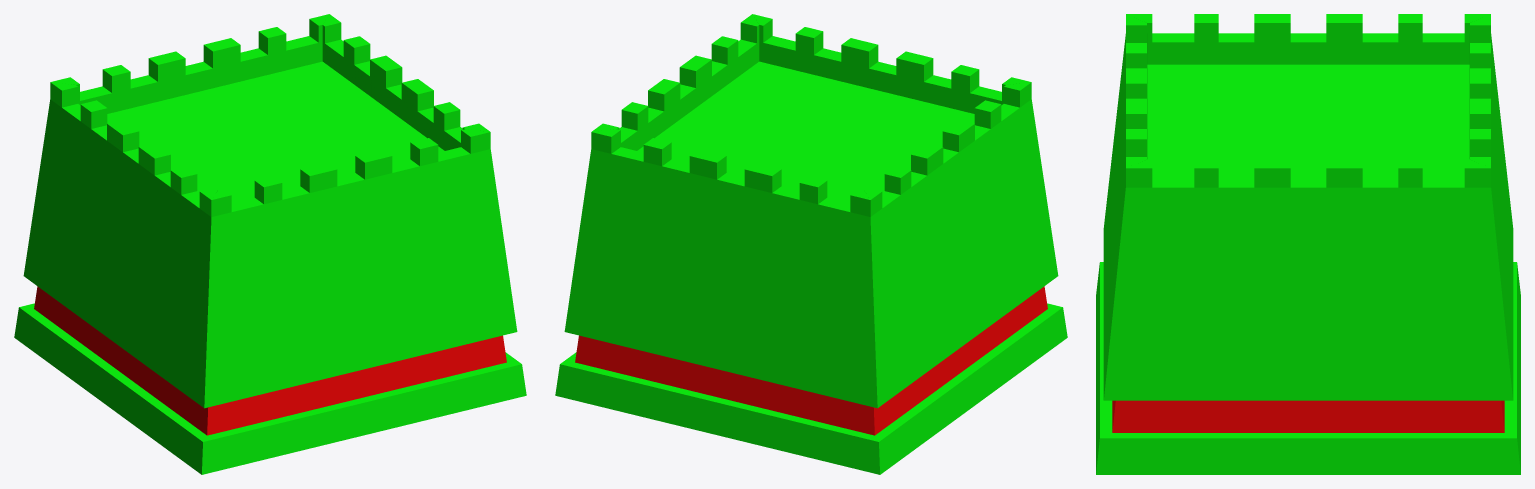
File: Tower.fbx
3 renders of one model, left to right at view 1: azimuth 30°, elevation 25°; view 2: azimuth 150°, elevation 25°; view 3: azimuth 270°, elevation 25°, orthographic. The views are drawn at different scales.
Visible parts, largest first — view 1: Cube; view 2: Cube; view 3: Cube.
Part boxes in pixels (x1=…): Cube: x1=14, y1=14, x2=526, y2=474; Cube: x1=555, y1=14, x2=1067, y2=474; Cube: x1=1096, y1=14, x2=1520, y2=474.
Size of the model in its own units: 2 by 2 by 1.53.
